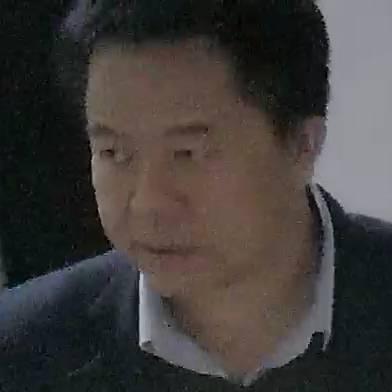cb: (41, 12, 345, 316)
